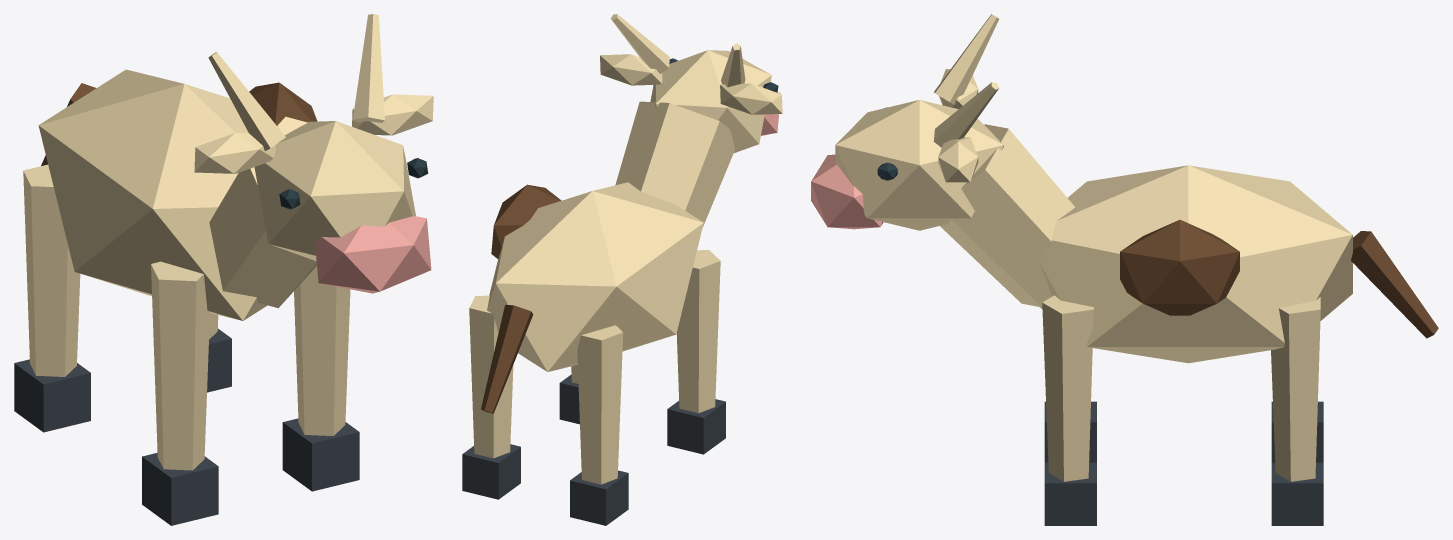
The model's file is res_cattle.glb.
3 views of the same model, side by side, from view 1: azimuth 30°, elevation 25°; view 2: azimuth 150°, elevation 25°; view 3: azimuth 270°, elevation 25° (orthographic). The views are drawn at different scales.
Parts seen in each view (by area): view 1: res_cattle; view 2: res_cattle; view 3: res_cattle.
Boxes of the visible parts, x1=… form: res_cattle: x1=14, y1=14, x2=433, y2=525; res_cattle: x1=462, y1=14, x2=782, y2=525; res_cattle: x1=811, y1=14, x2=1438, y2=525.
Size of the model in its own units: 0.1477 by 0.2869 by 0.3735.
